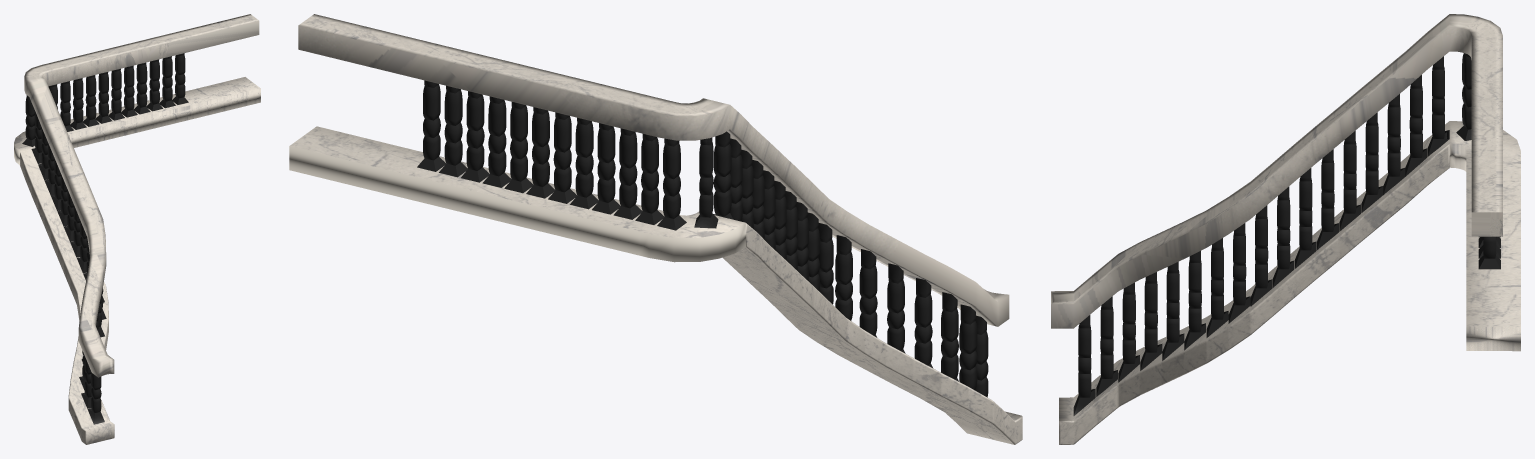
File: banister_stairs_right_with_texture.fbx
3 views of the same model, side by side, from view 1: azimuth 30°, elevation 25°; view 2: azimuth 150°, elevation 25°; view 3: azimuth 270°, elevation 25° (orthographic). The views are drawn at different scales.
Visible parts, largest first — view 1: banister_stairs_top, pillar_banister_stairs, banister_stairs_bottom; view 2: pillar_banister_stairs, banister_stairs_bottom, banister_stairs_top; view 3: pillar_banister_stairs, banister_stairs_top, banister_stairs_bottom.
Part boxes in pixels (bbox=[...]): banister_stairs_top: bbox=[24, 14, 259, 377]; pillar_banister_stairs: bbox=[22, 53, 188, 424]; banister_stairs_bottom: bbox=[14, 77, 260, 444]; pillar_banister_stairs: bbox=[417, 80, 988, 397]; banister_stairs_bottom: bbox=[289, 126, 1022, 444]; banister_stairs_top: bbox=[298, 14, 1009, 326]; pillar_banister_stairs: bbox=[1073, 53, 1500, 415]; banister_stairs_top: bbox=[1051, 14, 1502, 328]; banister_stairs_bottom: bbox=[1059, 121, 1520, 444].
Bounding box in the file's own units: 10.73 × 9.24 × 8.64.
2 materials, 2 textured.
